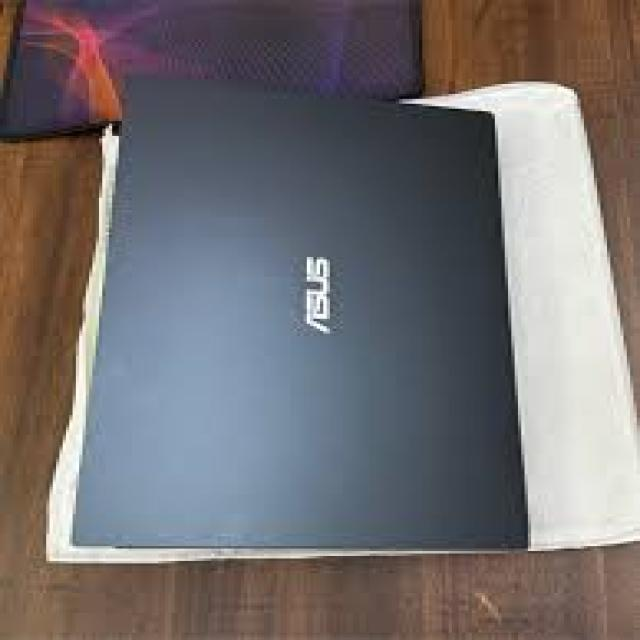laptop: (71, 67, 531, 556)
